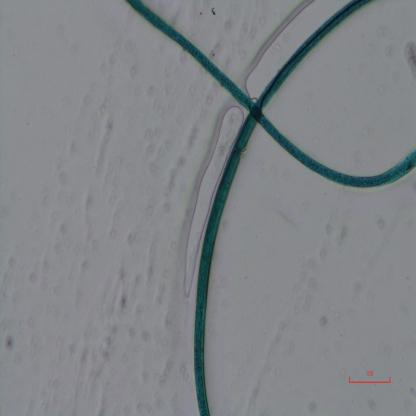Air bubble: (181, 108, 245, 295), (245, 2, 313, 100)
Background material: (103, 247, 135, 330), (397, 41, 416, 90), (3, 333, 18, 353)
Microfibre: (194, 0, 374, 415), (126, 0, 416, 188)
